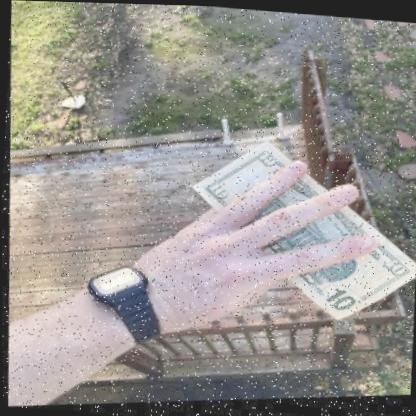dollar_back: (187, 144, 415, 326)
